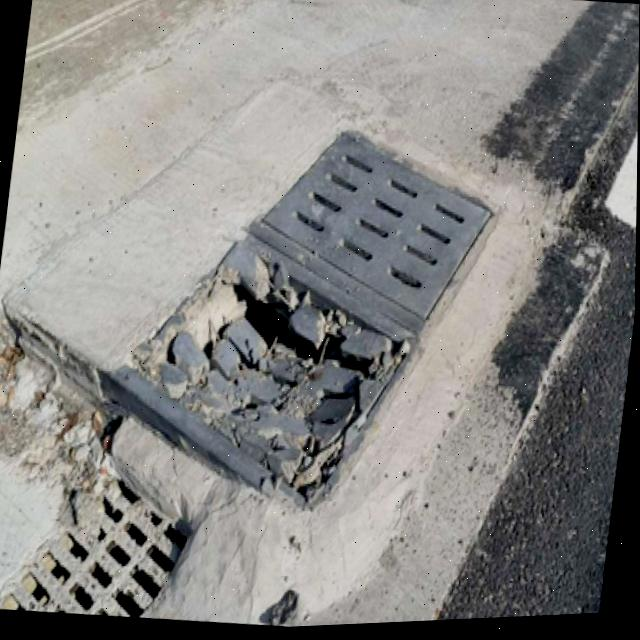manhole: (117, 100, 501, 527)
